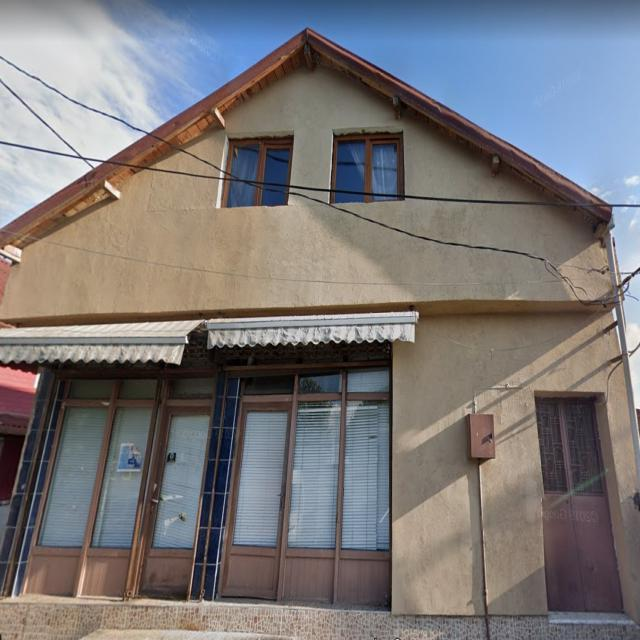Building: (0, 28, 640, 623)
